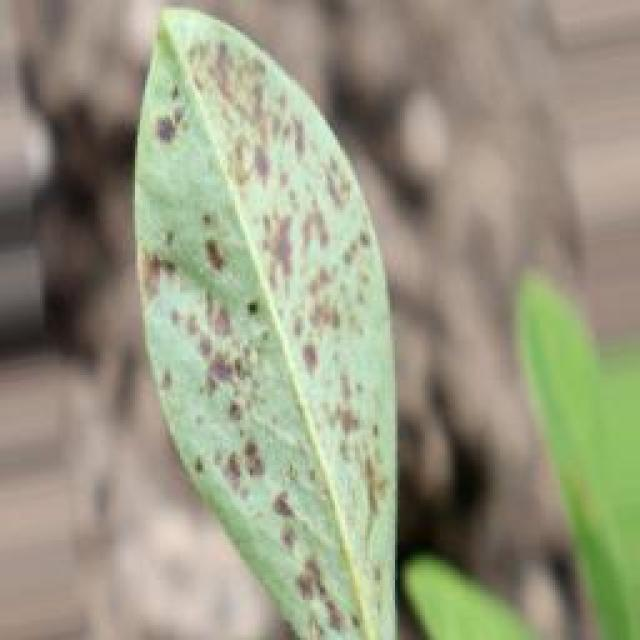Whitefly: (110, 9, 438, 620)
